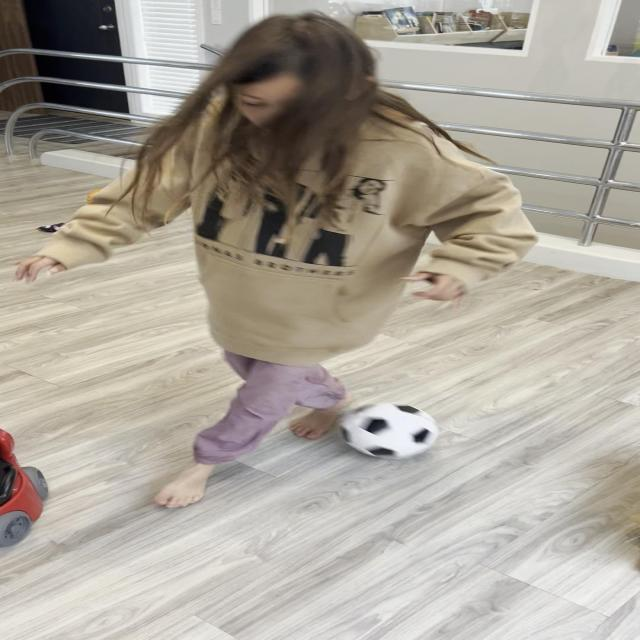Soccer Ball: (340, 402, 439, 460)
